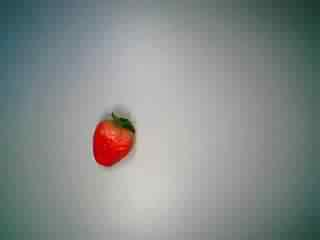strawberry: (79, 104, 147, 168)
